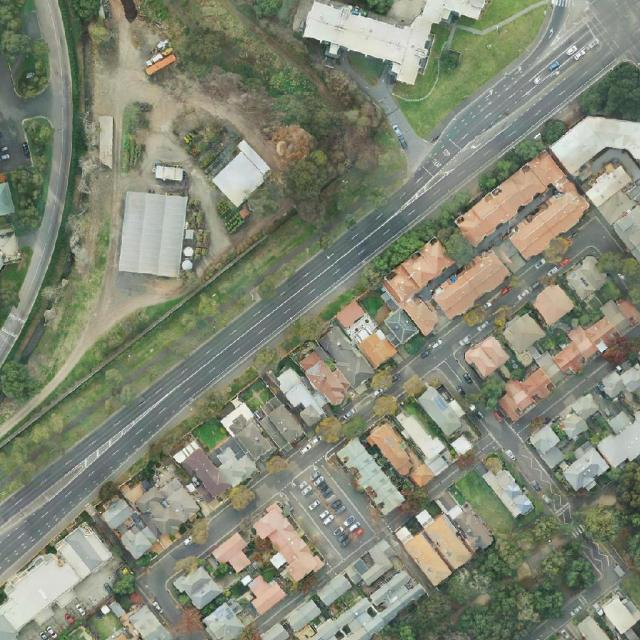building: (260, 538, 402, 640), (451, 149, 570, 248), (379, 235, 480, 337), (304, 565, 431, 640), (364, 401, 458, 495), (545, 290, 640, 380), (555, 411, 640, 498), (393, 502, 477, 588), (506, 181, 594, 263), (526, 390, 612, 469), (546, 106, 640, 177), (199, 410, 280, 491), (248, 502, 325, 587), (429, 246, 513, 323), (118, 190, 188, 277), (334, 436, 407, 518), (262, 357, 333, 429), (133, 471, 204, 541), (334, 298, 399, 370), (206, 140, 274, 208), (95, 493, 161, 561), (434, 485, 497, 556), (491, 359, 558, 423), (294, 346, 357, 409), (316, 323, 376, 389), (172, 439, 232, 504), (53, 521, 115, 583), (363, 288, 421, 350), (251, 394, 309, 455), (415, 379, 471, 439), (481, 461, 536, 521), (597, 186, 640, 262), (172, 561, 223, 612), (562, 253, 612, 303), (582, 161, 633, 208), (462, 333, 511, 381), (498, 308, 547, 356), (529, 280, 577, 327), (211, 532, 258, 579), (240, 570, 287, 616), (598, 590, 640, 638), (200, 602, 247, 640), (127, 603, 174, 640), (83, 114, 114, 168), (598, 364, 640, 400), (606, 409, 637, 438), (450, 433, 475, 458), (0, 181, 15, 216), (154, 165, 184, 181), (0, 615, 16, 639)
greenland: (230, 137, 415, 302), (128, 0, 320, 145), (359, 186, 503, 317), (381, 565, 561, 640), (249, 112, 353, 215), (310, 68, 388, 178), (472, 112, 571, 197), (0, 112, 58, 233), (266, 83, 361, 155), (393, 22, 463, 108), (251, 307, 330, 380), (122, 418, 200, 480), (474, 521, 536, 589), (536, 538, 600, 603), (251, 12, 315, 61), (457, 0, 538, 38), (245, 170, 297, 224), (68, 0, 117, 53), (317, 279, 368, 323), (192, 386, 230, 425), (527, 509, 564, 545), (223, 368, 258, 398), (253, 0, 283, 18), (112, 575, 136, 596)
metalled_road: (278, 460, 383, 575), (522, 550, 631, 640), (508, 352, 616, 442), (479, 404, 562, 504), (404, 319, 481, 389), (556, 206, 624, 266), (136, 549, 182, 627), (481, 266, 542, 322), (252, 584, 311, 636), (545, 29, 601, 80), (198, 500, 246, 550), (0, 56, 29, 123), (0, 112, 32, 172), (247, 467, 285, 515), (422, 460, 466, 501), (283, 442, 331, 479), (318, 463, 350, 504), (21, 90, 53, 117), (554, 502, 572, 524), (444, 374, 462, 390)
unmetalled_road: (28, 160, 222, 445), (90, 45, 154, 115), (195, 187, 234, 256)
